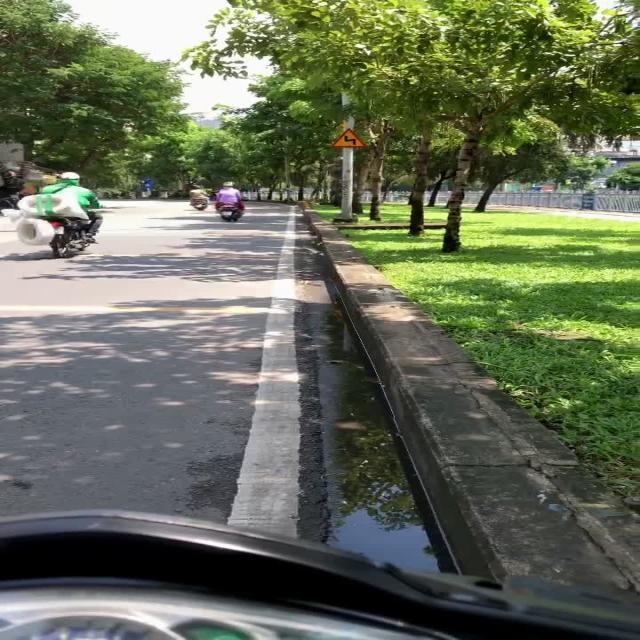Bien bao nhieu cho ngoat nguy hiem lien tiep: (318, 123, 372, 151)
